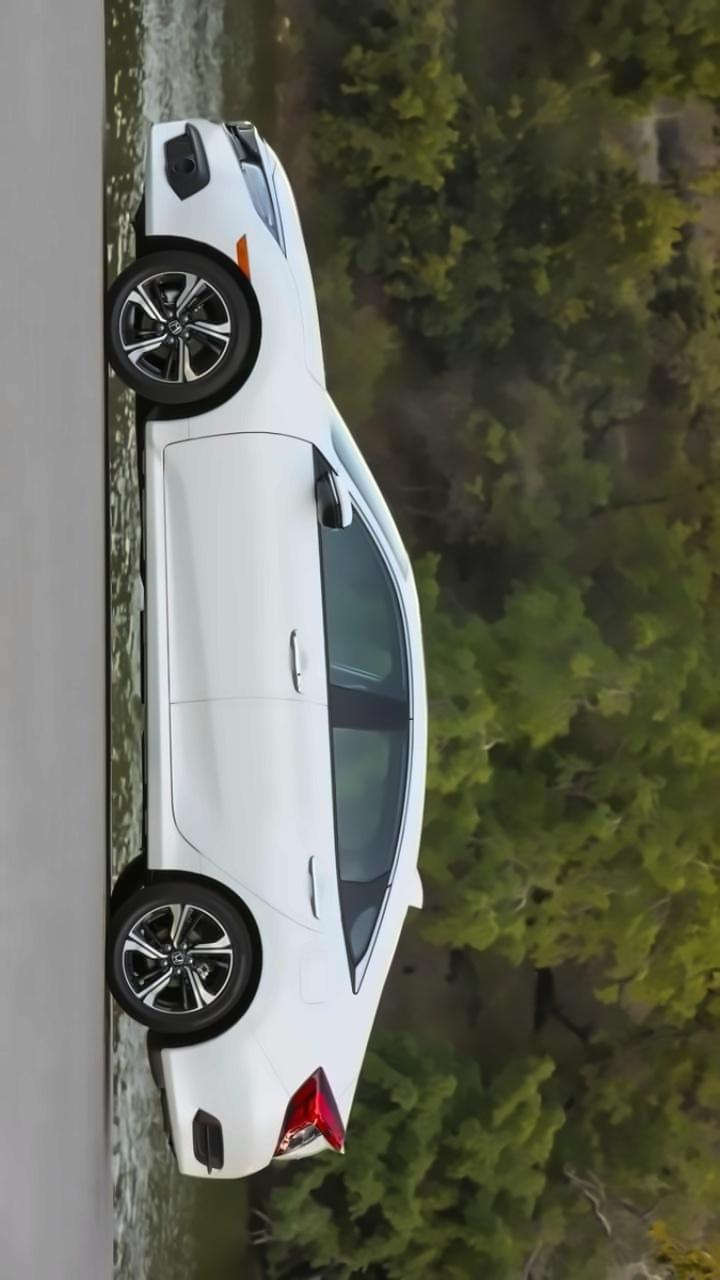Car hood: (260, 152, 331, 387)
Fender - -F-L-: (196, 254, 342, 483)
Fender - -R-L-: (182, 842, 370, 1109)
Front bumper: (144, 110, 246, 271)
Headlight - -L-: (218, 116, 283, 266)
Passenger-s door - -F-L-: (144, 428, 440, 705)
Passenger-s door - -R-L-: (144, 702, 466, 945)
Rear bumper: (158, 1030, 250, 1189)
Rear light - -L-: (274, 1064, 349, 1171)
Side bumper - -L-: (126, 420, 214, 895)
Side mirror - -L-: (306, 470, 362, 540)
